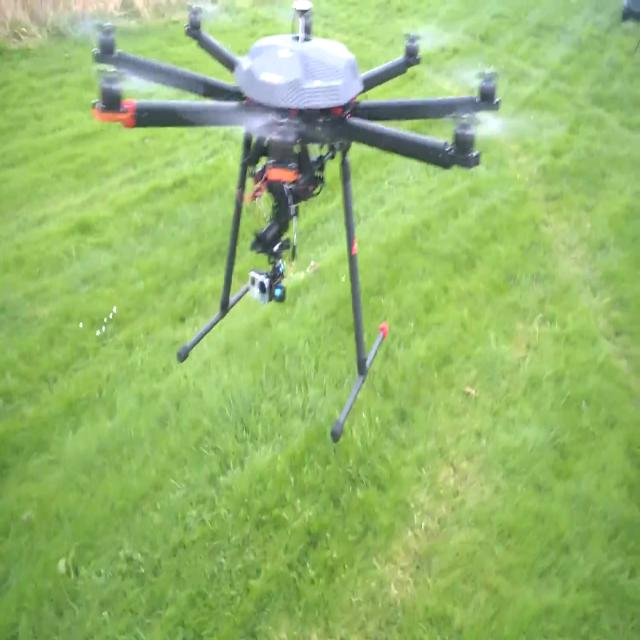drone: (75, 0, 510, 431)
